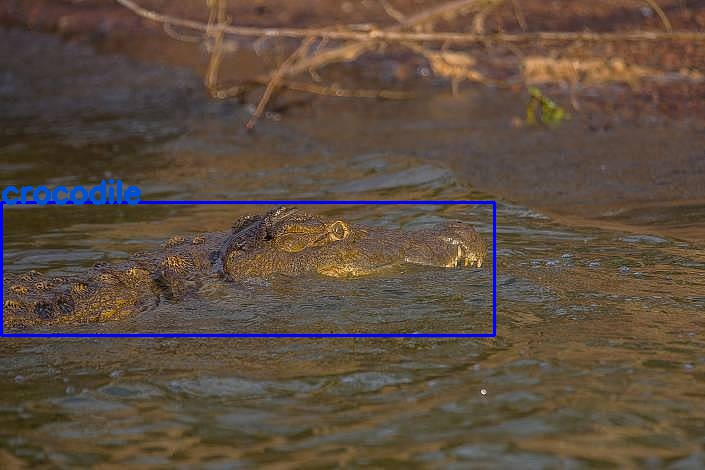crocodile: (1, 202, 494, 335)
